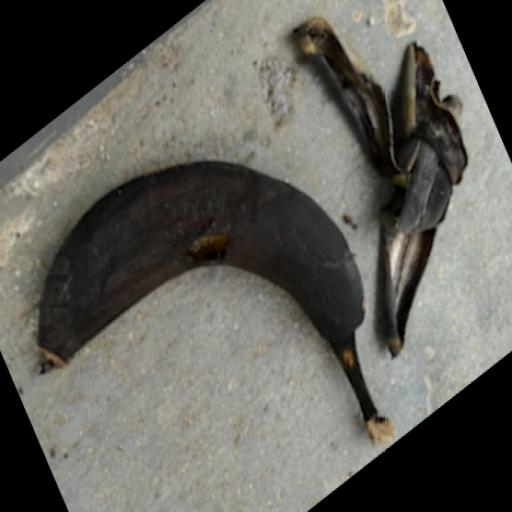banana-overripe: (15, 1, 465, 502)
